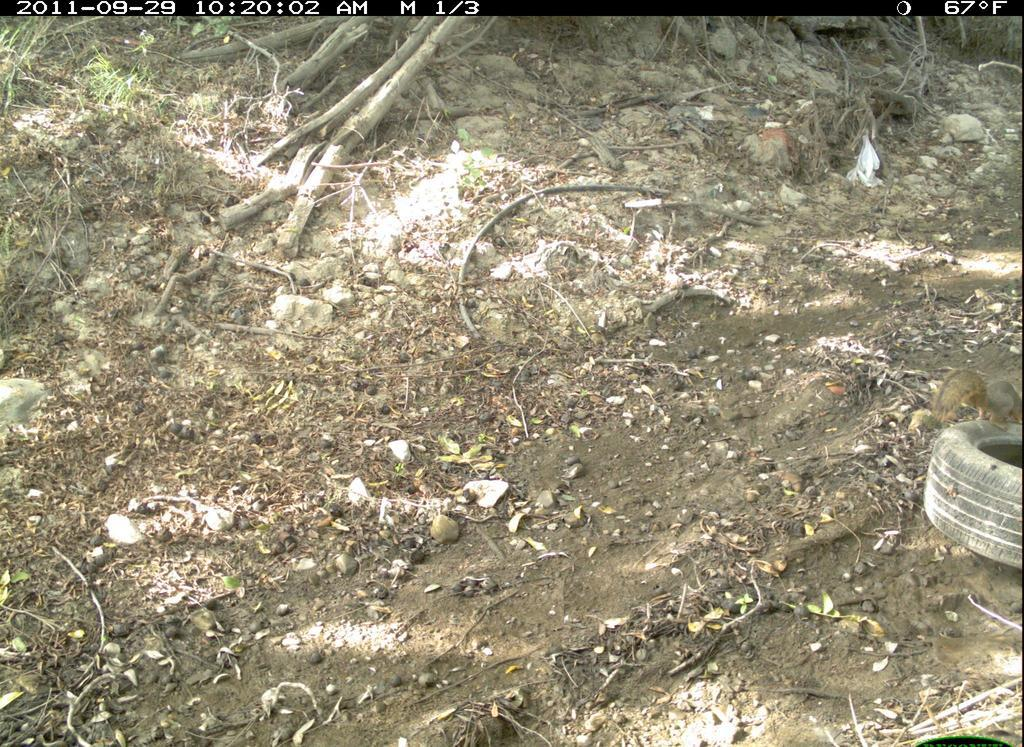squirrel: (913, 332, 1023, 457)
